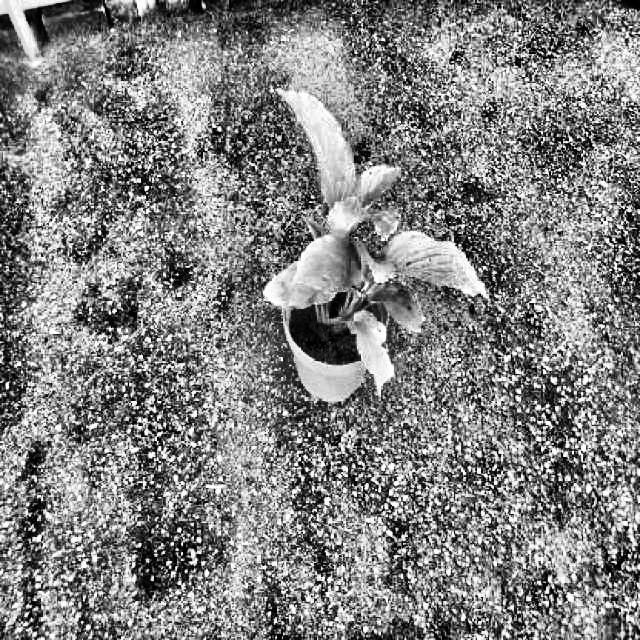plants: (268, 90, 486, 393)
